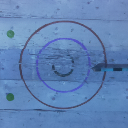Axe Tip: (91, 66, 102, 68)
